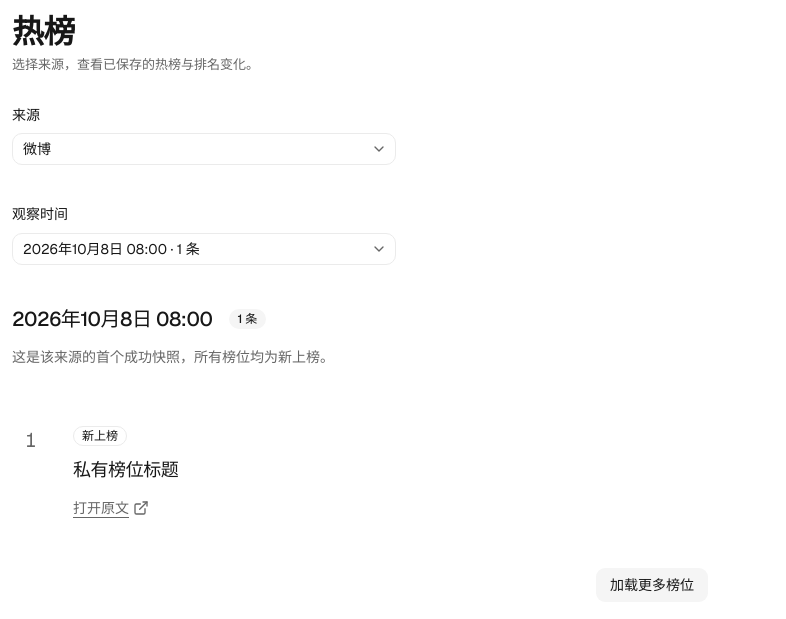
Test: handles entry pagination failure 401 without retaining revoked private rows
Expected: the heading "私有榜位标题" is shown, [73,458,178,480]
Click the button "加载更多榜位".
click(652, 584)  # box [595,566,709,602]
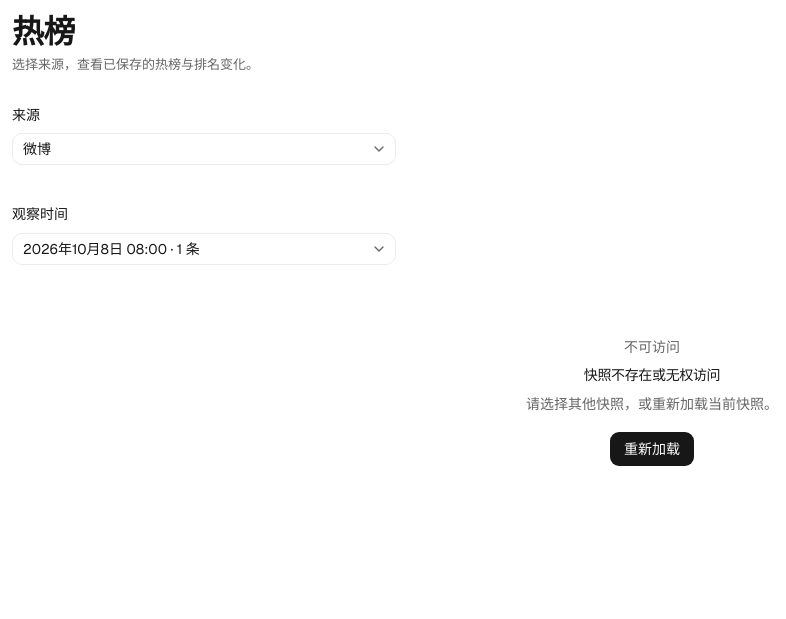
Now the text "快照不存在或无权访问" is shown, box [584,364,720,384]
Now the heading "私有榜位标题" is gone
